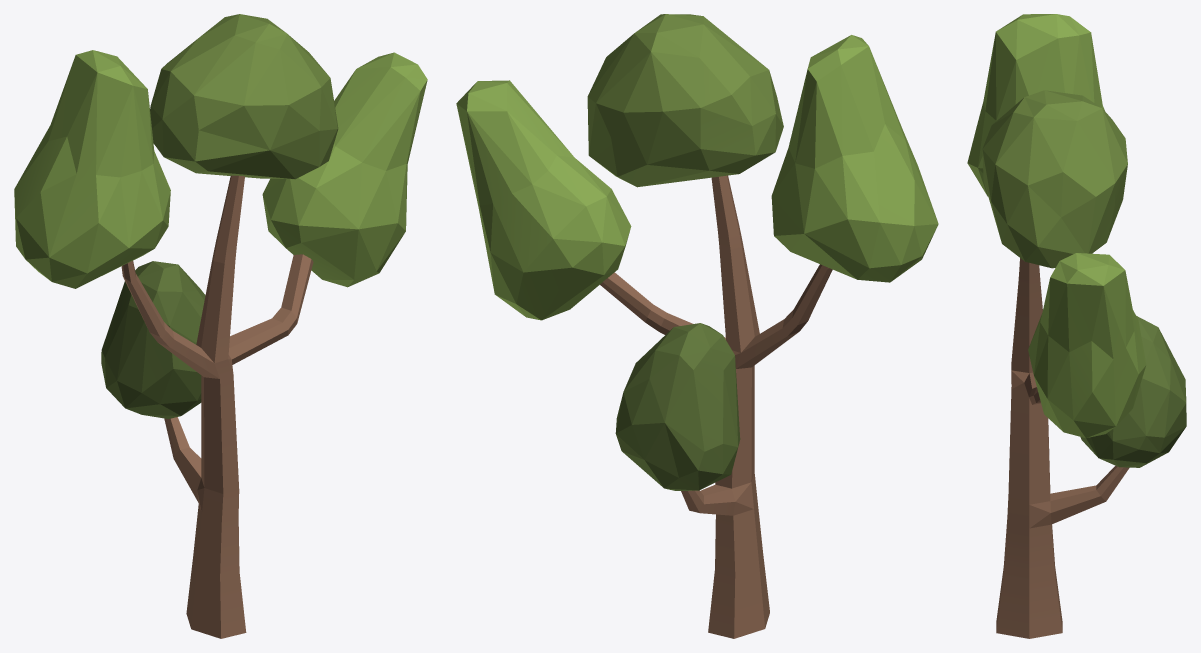
The model's file is deciduous_tree_1.fbx.
The picture shows the model from 3 angles, left to right: view 1: azimuth 30°, elevation 25°; view 2: azimuth 150°, elevation 25°; view 3: azimuth 270°, elevation 25°; orthographic projection. The views are drawn at different scales.
Visible parts, largest first — view 1: deciduous_tree_1; view 2: deciduous_tree_1; view 3: deciduous_tree_1.
Part boxes in pixels (bbox=[...]): deciduous_tree_1: bbox=[14, 14, 427, 638]; deciduous_tree_1: bbox=[456, 14, 938, 638]; deciduous_tree_1: bbox=[967, 14, 1186, 638].
Bounding box in the file's own units: 548 × 738 × 261.
